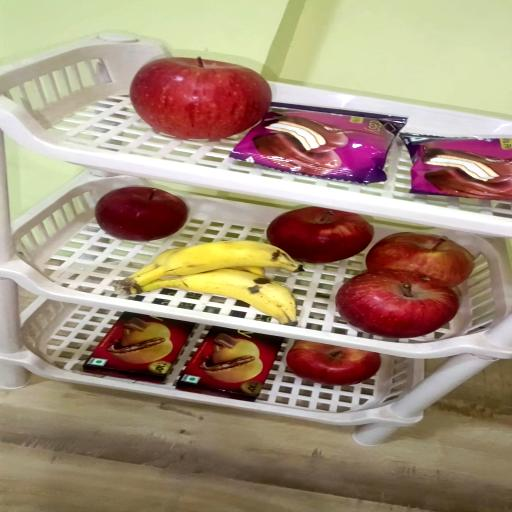Apple: (132, 56, 275, 140), (336, 272, 459, 340), (268, 209, 374, 265), (365, 234, 473, 288), (94, 189, 188, 243), (287, 341, 382, 385)
Choco Fills: (82, 313, 194, 383), (178, 328, 286, 400)
Choco Pie: (231, 102, 407, 182), (401, 134, 510, 198)
